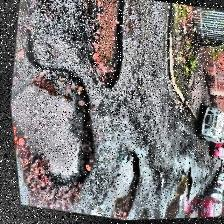pothole: (5, 58, 113, 218), (77, 0, 137, 92), (100, 150, 144, 222), (155, 165, 197, 219), (128, 208, 148, 220)
